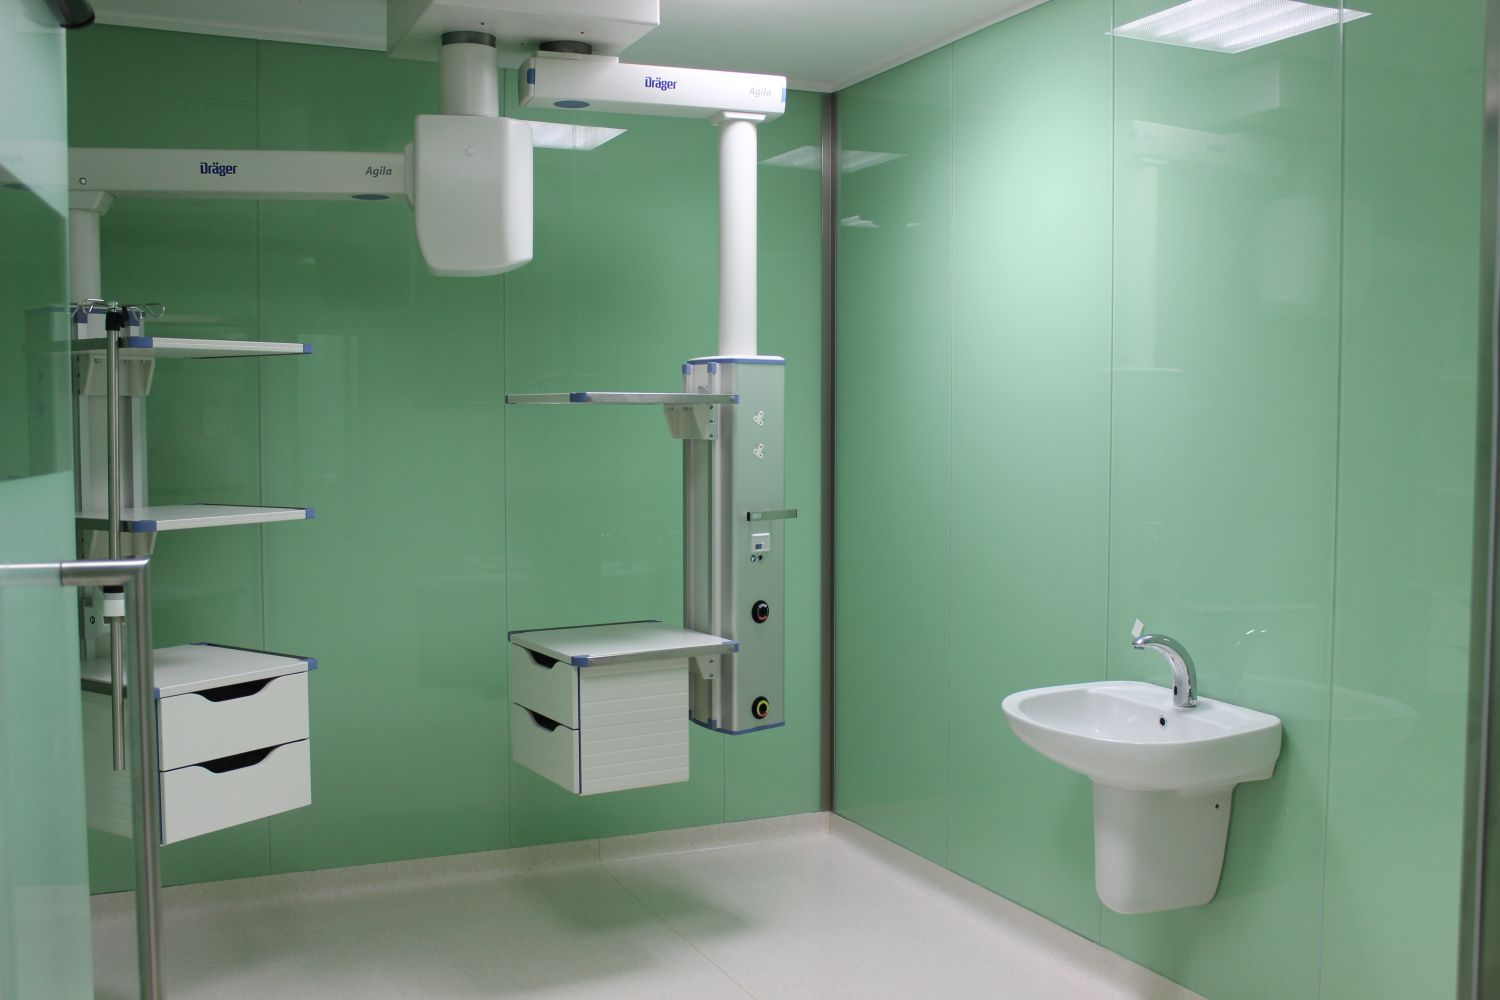drawer: (79, 643, 331, 842), (512, 616, 725, 797)
faucet: (1134, 629, 1200, 710)
iv_pole: (80, 298, 167, 1000)
sink: (999, 680, 1285, 917)
